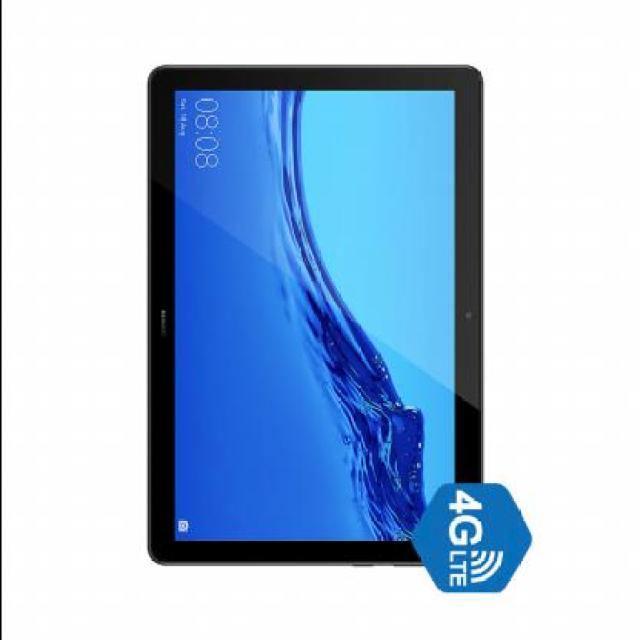tablet: (123, 24, 530, 591)
